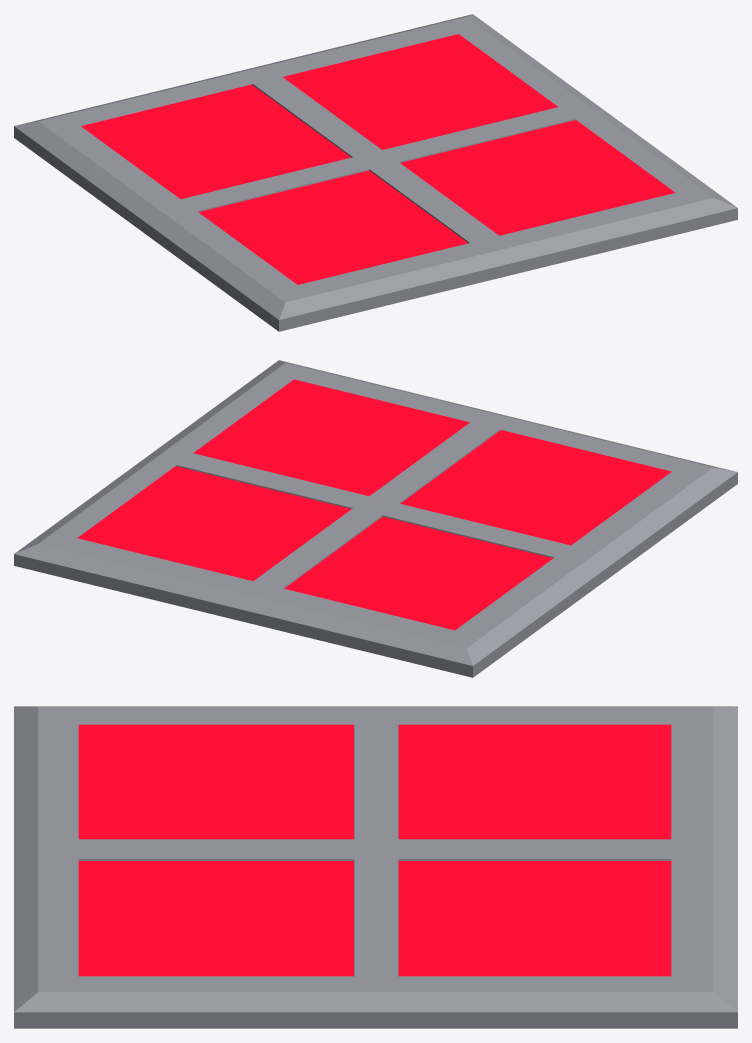
The model's file is LightRedVariant.fbx.
3 renders of one model, top to bottom at view 1: azimuth 30°, elevation 25°; view 2: azimuth 150°, elevation 25°; view 3: azimuth 270°, elevation 25°, orthographic. The views are drawn at different scales.
Visible parts, largest first — view 1: Cube, Cube.001; view 2: Cube, Cube.001; view 3: Cube, Cube.001.
Part boxes in pixels (x1,y1,x2,y2): Cube: [81, 34, 675, 284]; Cube.001: [14, 14, 737, 331]; Cube: [77, 379, 671, 630]; Cube.001: [14, 360, 737, 677]; Cube: [78, 724, 671, 976]; Cube.001: [14, 706, 737, 1028].
Size of the model in its own units: 222 by 8.9 by 222.
